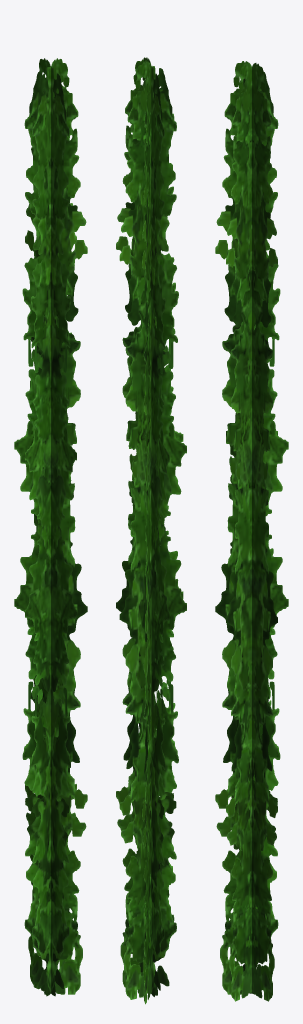
Rendered from Plant 1.fbx.
3 views of the same model, side by side, from view 1: azimuth 90°, elevation 25°; view 2: azimuth 210°, elevation 25°; view 3: azimuth 270°, elevation 25° (orthographic).
Parts seen in each view (by area): view 1: Plant 1; view 2: Plant 1; view 3: Plant 1.
Part boxes in pixels (box(x1,y1,x2,y2)): Plant 1: box(14, 58, 87, 996); Plant 1: box(116, 57, 186, 1004); Plant 1: box(215, 61, 288, 1001).
Size of the model in its own units: 36.29 by 529 by 36.29.
Materials: 1 (1 with a texture image).
